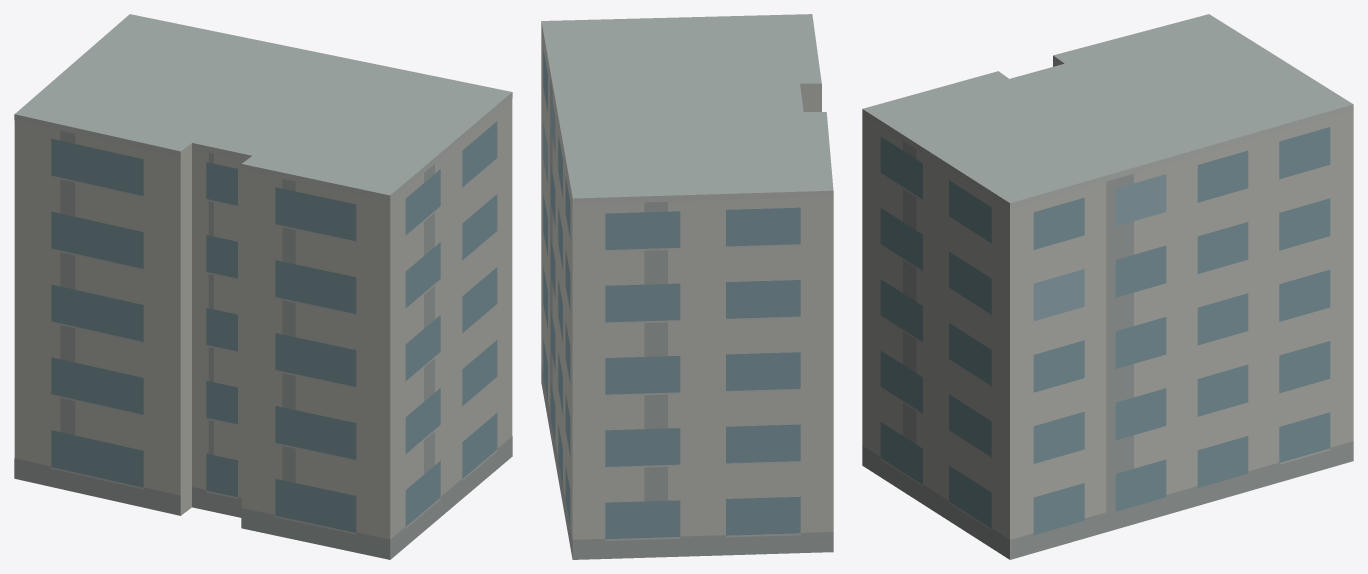
File: survey-upis-32882666.glb
3 views of the same model, side by side, from view 1: azimuth 30°, elevation 25°; view 2: azimuth 150°, elevation 25°; view 3: azimuth 270°, elevation 25° (orthographic). The views are drawn at different scales.
Parts seen in each view (by area): view 1: survey-upis-32882666.tmp; view 2: survey-upis-32882666.tmp; view 3: survey-upis-32882666.tmp.
Part boxes in pixels (<box>): survey-upis-32882666.tmp: <box>14,14,512,559</box>; survey-upis-32882666.tmp: <box>541,14,833,559</box>; survey-upis-32882666.tmp: <box>862,14,1353,559</box>.
Size of the model in its own units: 16.17 by 14.2 by 17.74.
